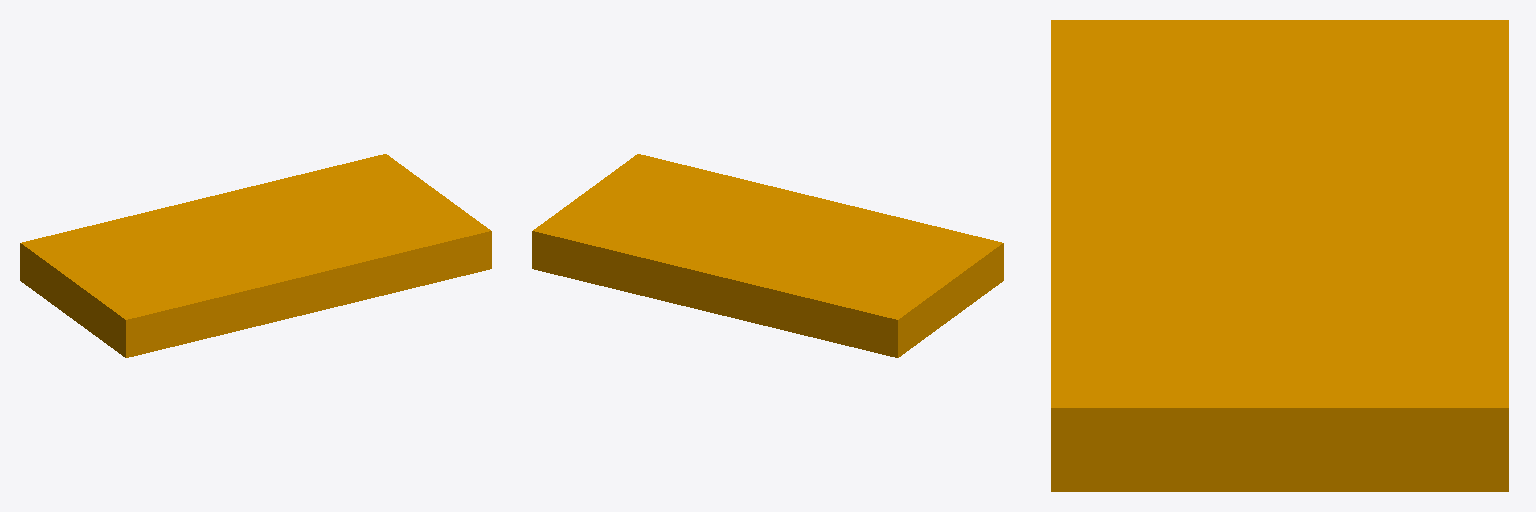
URDF robot description (boxrobot):
<!-- 
    需求：显示一盒状机器人
    长:1.0m
    宽:0.5m
    高:0.1m
 -->
 <!-- 根标签 -->
 <robot name="boxrobot"> 
  <!-- 连杆 -->
    <link name="base_link"> 
      <!-- 可视化 -->
      <visual>
        <!-- 几何图形 -->
        <geometry>
          <!-- 长方体 -->
          <box size="1.0 0.5 0.1"/>
        </geometry>
      </visual>
    </link>
  </robot>

--- Facts derived from the render (not from the file) ---
The picture shows the robot from 3 angles, left to right: view 1: azimuth 30°, elevation 25°; view 2: azimuth 150°, elevation 25°; view 3: azimuth 270°, elevation 25°; orthographic projection.
Model boxrobot with 1 links and 0 joints (none), rooted at base_link, posed every joint at zero.
Links seen in each view (by area): view 1: base_link; view 2: base_link; view 3: base_link.
Link boxes in pixels (left/top/right/bottom): base_link: left=20, top=154, right=491, bottom=357; base_link: left=532, top=154, right=1003, bottom=357; base_link: left=1051, top=20, right=1508, bottom=491.
Bounding box of the posed robot: 1 × 0.5 × 0.1 m (x, y, z).
Geometry: primitives only (box / cylinder / sphere), no mesh files.
